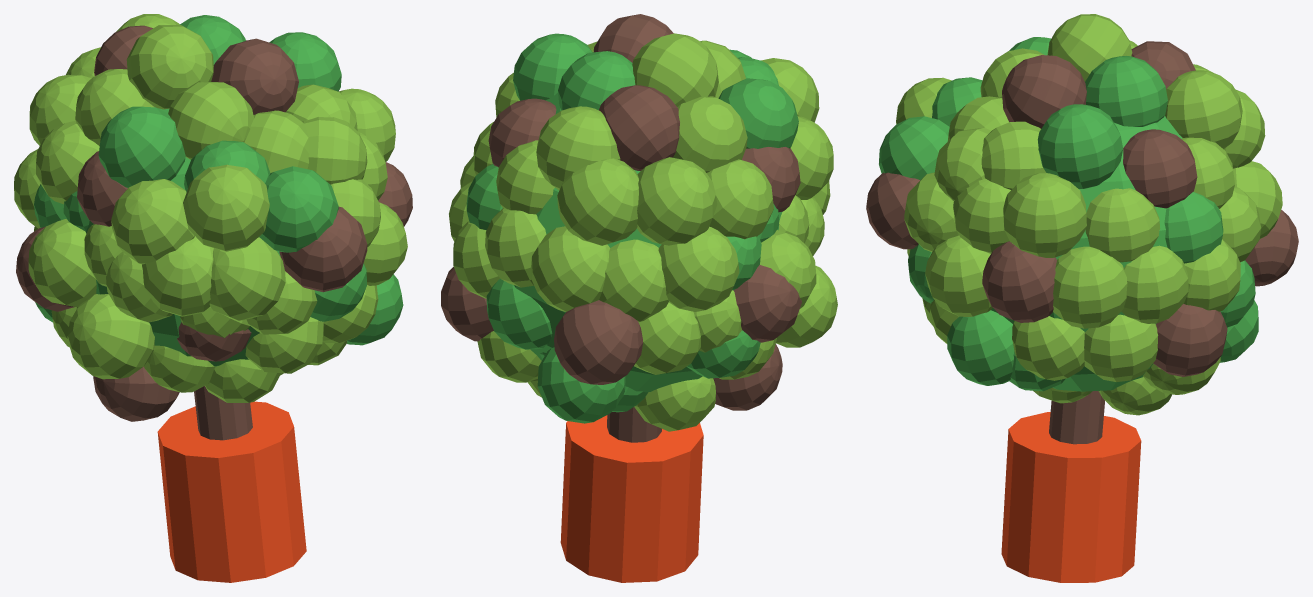
3 views of the same model, side by side, from view 1: azimuth 30°, elevation 25°; view 2: azimuth 150°, elevation 25°; view 3: azimuth 270°, elevation 25° (orthographic). The views are drawn at different scales.
Parts seen in each view (by area): view 1: mesh_601950049, mesh_184692720, mesh_1034353947, mesh_1361086719, mesh_1517155844, mesh_1175583112, mesh_1472064505, mesh_1537135167, mesh_182119775, mesh_948033680, mesh_1295437727, mesh_1377044092 (+38 smaller); view 2: mesh_601950049, mesh_1406716090, mesh_1127819577, mesh_1786445685, mesh_221131459, mesh_1748711365, mesh_1864472851, mesh_1517155844, mesh_1287763115, mesh_312349401, mesh_1136982540, mesh_427346106 (+35 smaller); view 3: mesh_601950049, mesh_1004752319, mesh_635448931, mesh_937989045, mesh_509112039, mesh_1287763115, mesh_965729514, mesh_182119775, mesh_688558604, mesh_1299167200, mesh_1317141481, mesh_1217131838 (+33 smaller).
Part boxes in pixels (x1,y1,x2,y2): mesh_601950049: (157,401,306,582); mesh_184692720: (183,164,269,251); mesh_1034353947: (98,106,185,187); mesh_1361086719: (67,294,154,379); mesh_1517155844: (126,25,213,109); mesh_1175583112: (111,179,194,264); mesh_1472064505: (259,166,338,252); mesh_1537135167: (209,237,285,320); mesh_182119775: (211,38,298,114); mesh_948033680: (168,82,253,159); mesh_1295437727: (28,219,96,307); mesh_1377044092: (279,206,367,292); mesh_601950049: (560,415,703,582); mesh_1406716090: (554,300,642,384); mesh_1127819577: (637,157,717,245); mesh_1786445685: (557,158,638,245); mesh_221131459: (599,85,679,170); mesh_1748711365: (658,226,739,311); mesh_1864472851: (531,226,609,311); mesh_1517155844: (632,33,718,106); mesh_1287763115: (536,106,620,190); mesh_312349401: (673,96,747,172); mesh_1136982540: (599,239,668,321); mesh_427346106: (706,159,773,239); mesh_601950049: (1001,412,1141,582); mesh_1004752319: (1003,173,1086,257); mesh_635448931: (1037,104,1123,188); mesh_937989045: (1053,246,1127,328); mesh_509112039: (982,241,1056,322); mesh_1287763115: (1165,70,1242,149); mesh_965729514: (1085,56,1167,126); mesh_182119775: (1002,55,1086,128); mesh_688558604: (1123,129,1197,208); mesh_1299167200: (1085,188,1160,262); mesh_1317141481: (947,310,1014,385); mesh_1217131838: (1153,304,1227,376).
Bounding box in the file's own units: 57.87 × 85.89 × 64.69.
